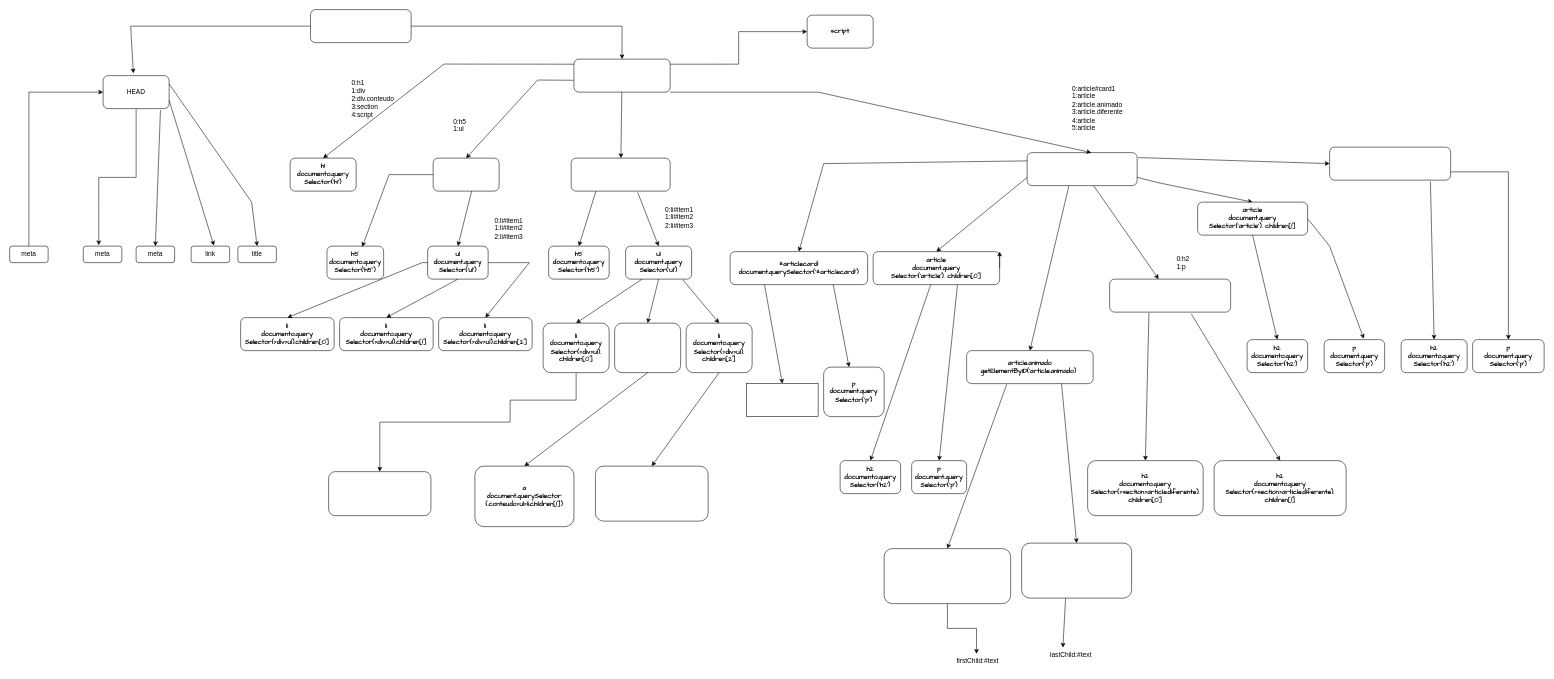
The diagram is 1554 pixels wide and 679 high, and some of its shapes have lost their labels. Each missing label, with the centre of its shape:
a document.querySelector (.conteudo>ul>li.children[0]): pixel 379 493
a document.querySelector (.conteudo>ul>li.children[2]): pixel 651 493
article document.query Selector('article'). children[2]: pixel 1390 163
article.diferente getElementByID('article.diferente): pixel 1170 295
body document.querySlector('body'): pixel 621 75
div conteudo document.getElementId ('.conteudo'): pixel 620 174
div document.query Selector('div'): pixel 466 174
h2 documento.query Selector(>section>articleanimado). children[0]: pixel 947 576
h2#titleCard1 getElementByID('h2'): pixel 782 400
HTML document.querySelector("html"): pixel 360 26
li documento.query Selector(>div>ul). children[1]: pixel 647 348
p documento.query Selector(>section>articleanimado). children[1]: pixel 1076 570
section document.querySelector('section'): pixel 1082 169
